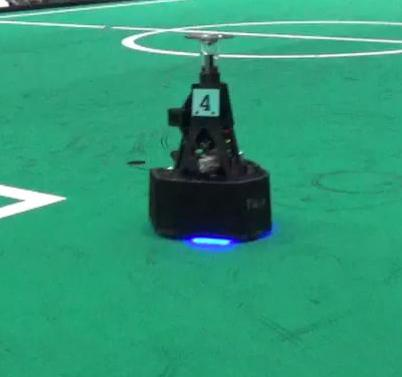robot: (141, 25, 282, 251)
